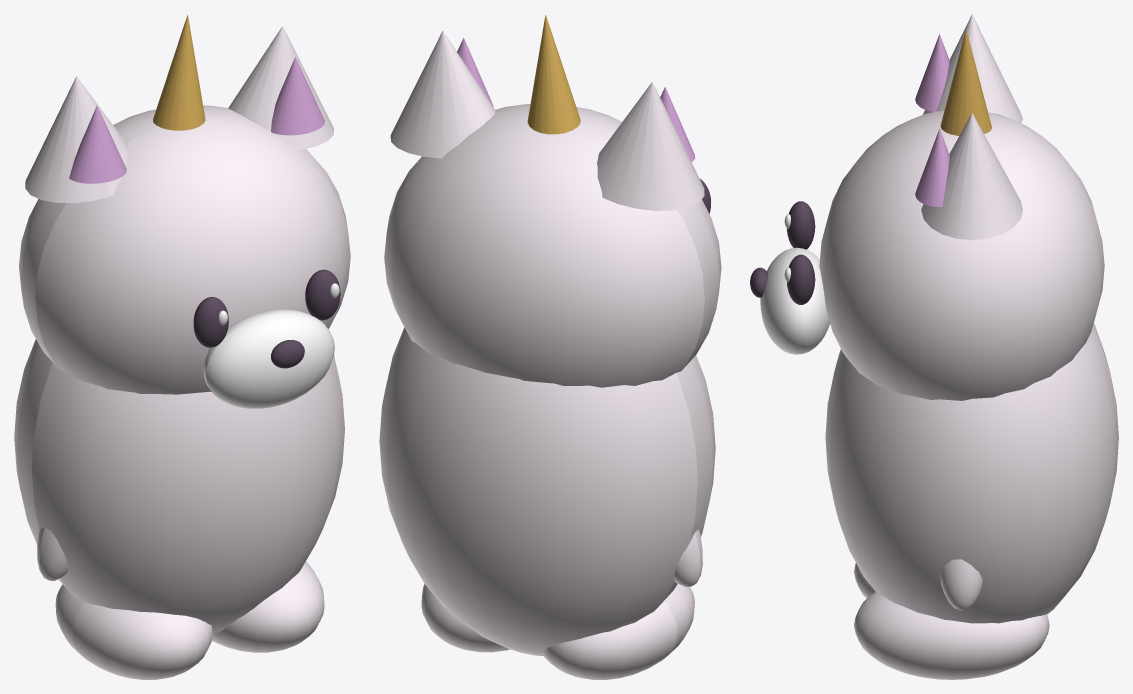
The picture shows the model from 3 angles, left to right: view 1: azimuth 30°, elevation 25°; view 2: azimuth 150°, elevation 25°; view 3: azimuth 270°, elevation 25°; orthographic projection. The views are drawn at different scales.
Bounding box in the file's own units: 1.66 × 3.35 × 1.81.
